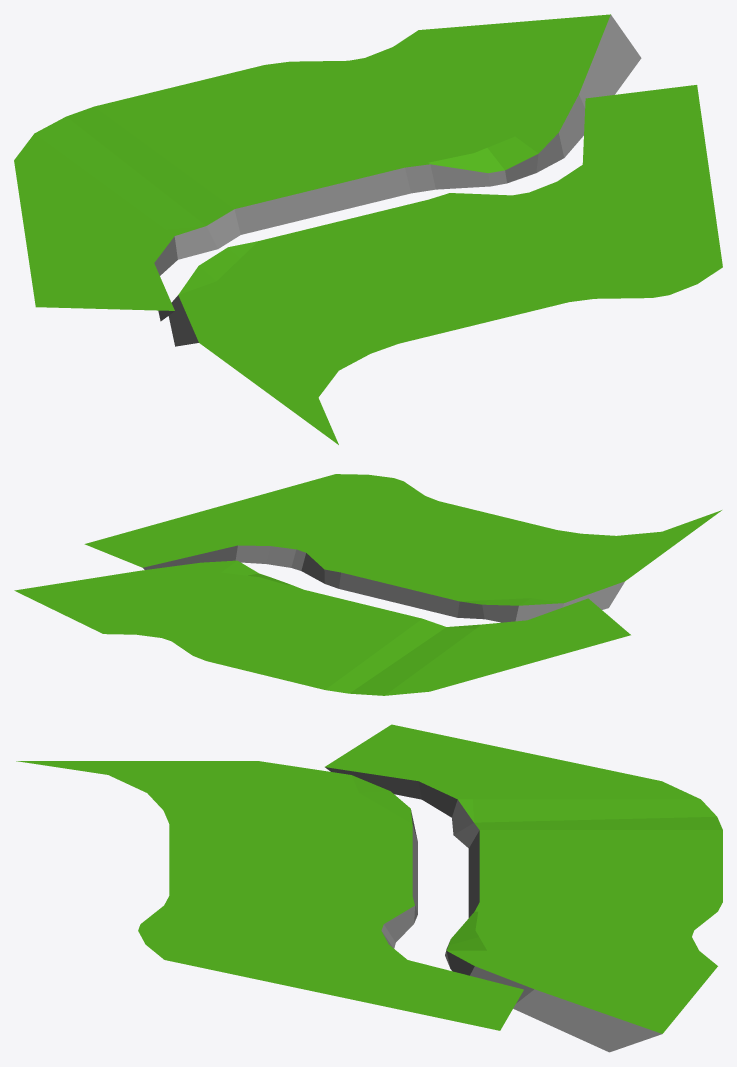
The model's file is level1_terrain.fbx.
3 renders of one model, top to bottom at view 1: azimuth 30°, elevation 25°; view 2: azimuth 150°, elevation 25°; view 3: azimuth 270°, elevation 25°, orthographic. The views are drawn at different scales.
Parts seen in each view (by area): view 1: Level1Ground; view 2: Level1Ground; view 3: Level1Ground.
Boxes of the visible parts, bbox=[...] form: Level1Ground: bbox=[14, 14, 722, 444]; Level1Ground: bbox=[14, 474, 721, 695]; Level1Ground: bbox=[16, 724, 722, 1052].
Size of the model in its own units: 29507 by 907 by 28557.
